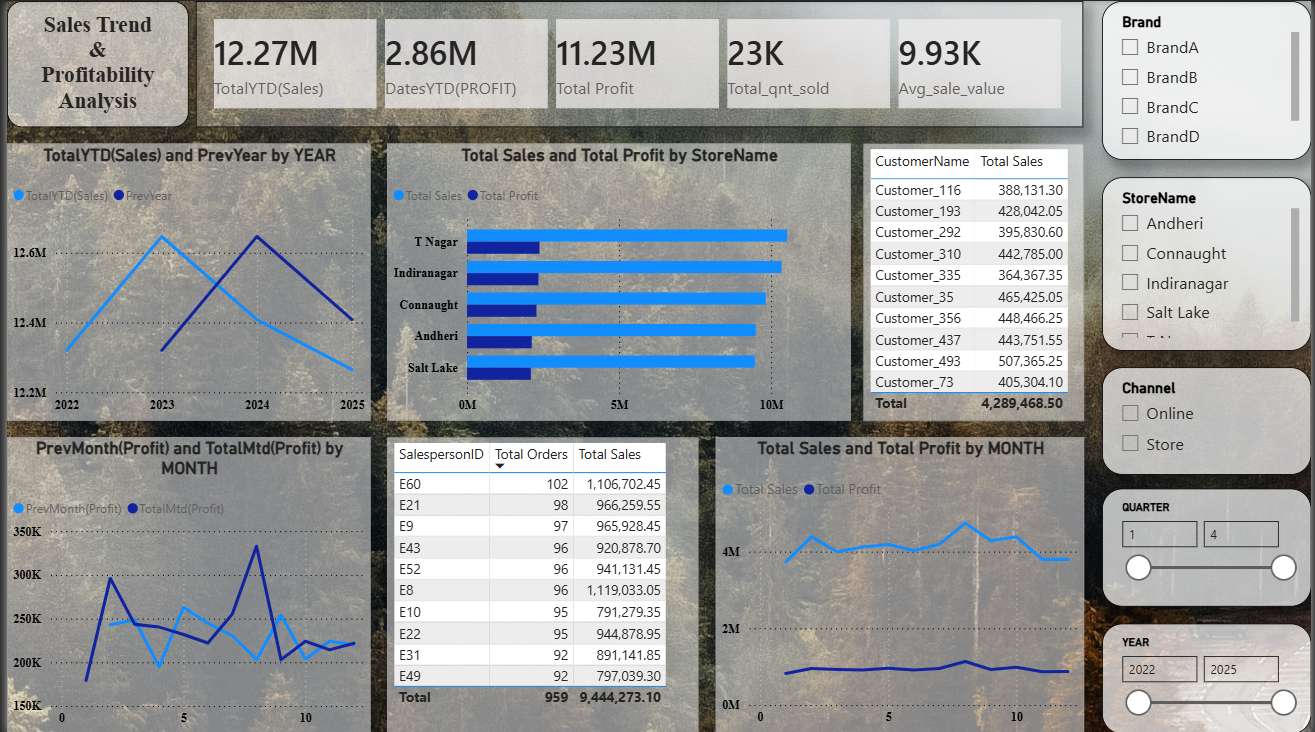

This screenshot's page, from the dashboard's own definition file:
{"tool":"powerbi","page":{"name":"Sales Trend & Profitability Analysis","canvas":[1280,720],"ordinal":2},"visuals":[{"type":"lineChart","fields":{"Category":["Dim Calender.YEAR"],"Y":["Fact Sales.TotalYTD(Sales)","Fact Sales.PervYear"]},"box":[0,139.9,357.1,272.4],"z":0},{"type":"lineChart","fields":{"Category":["Dim Calender.MONTH"],"Y":["Fact Sales.PrevMonth(Profit)","Fact Sales.TotalMtd(Profit)"]},"box":[0,428.2,357.1,292],"z":1000},{"type":"cardVisual","fields":{"Data":["Fact Sales.TotalYTD(Sales)","Fact Sales.DatesYTD(PROFIT)","Fact Sales.Total Profit","Fact Sales.Total_qnt_sold","Fact Sales.Avg_sale_value"]},"box":[185.7,0,871.4,124.3],"z":2000},{"type":"textbox","box":[0,0,178.8,123.8],"z":3000},{"type":"slicer","fields":{"Values":["Dim Calender.YEAR"]},"box":[1074.3,611.4,205.7,108.6],"z":4000},{"type":"slicer","fields":{"Values":["Dim Store.StoreName"]},"box":[1074.3,172.9,205.7,170],"z":5000},{"type":"slicer","fields":{"Values":["Dim Product.Brand"]},"box":[1074.3,0,205.7,155.7],"z":6000},{"type":"slicer","fields":{"Values":["Dim Store.Channel"]},"box":[1074.3,360,205.7,105.7],"z":7000},{"type":"slicer","fields":{"Values":["Dim Calender.QUARTER"]},"box":[1074.3,478.6,205.7,115.7],"z":8000},{"type":"lineChart","fields":{"Category":["Dim Calender.MONTH"],"Y":["Fact Sales.Total Sales","Fact Sales.Total Profit"]},"box":[695.7,428.2,362,290.8],"z":9000},{"type":"clusteredBarChart","fields":{"Category":["Dim Store.StoreName"],"Y":["Fact Sales.Total Sales","Fact Sales.Total Profit"]},"box":[373,139.9,455.2,272.4],"z":10000},{"type":"tableEx","title":"Top 10 Customer","fields":{"Values":["Dim Customer.CustomerName","Fact Sales.Total Sales"]},"box":[840.5,139.9,217.2,272.4],"z":11000},{"type":"tableEx","title":"Top 10 SalespersonID","fields":{"Values":["Dim Store.SalespersonID","Fact Sales.Total Orders","Fact Sales.Total Sales"]},"box":[372.9,428.6,305.7,291.4],"z":12000}]}

Visuals, with their boxes in screenshot pixels (x1, y1, x2, y2), scaled from the page's 1280x720 canvas onto the 1315x732 screenshot:
lineChart - Dim Calender.YEAR x Fact Sales.TotalYTD(Sales): 0,142,367,419
lineChart - Dim Calender.MONTH x Fact Sales.PrevMonth(Profit): 0,435,367,731
cardVisual - Fact Sales.TotalYTD(Sales) x Fact Sales.DatesYTD(PROFIT): 191,0,1086,126
textbox: 0,0,184,126
slicer - Dim Calender.YEAR: 1104,622,1314,731
slicer - Dim Store.StoreName: 1104,176,1314,349
slicer - Dim Product.Brand: 1104,0,1314,158
slicer - Dim Store.Channel: 1104,366,1314,473
slicer - Dim Calender.QUARTER: 1104,487,1314,604
lineChart - Dim Calender.MONTH x Fact Sales.Total Sales: 715,435,1087,731
clusteredBarChart - Dim Store.StoreName x Fact Sales.Total Sales: 383,142,851,419
"Top 10 Customer" tableEx: 863,142,1087,419
"Top 10 SalespersonID" tableEx: 383,436,697,731
